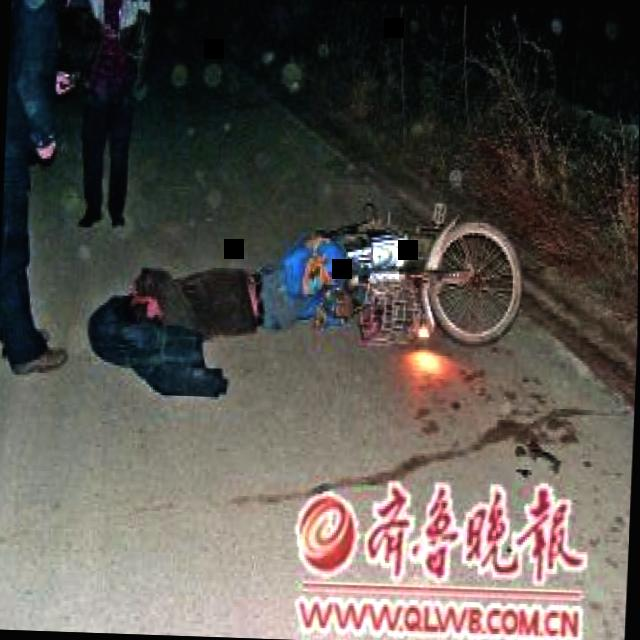Fall-Detected: (76, 188, 398, 418)
